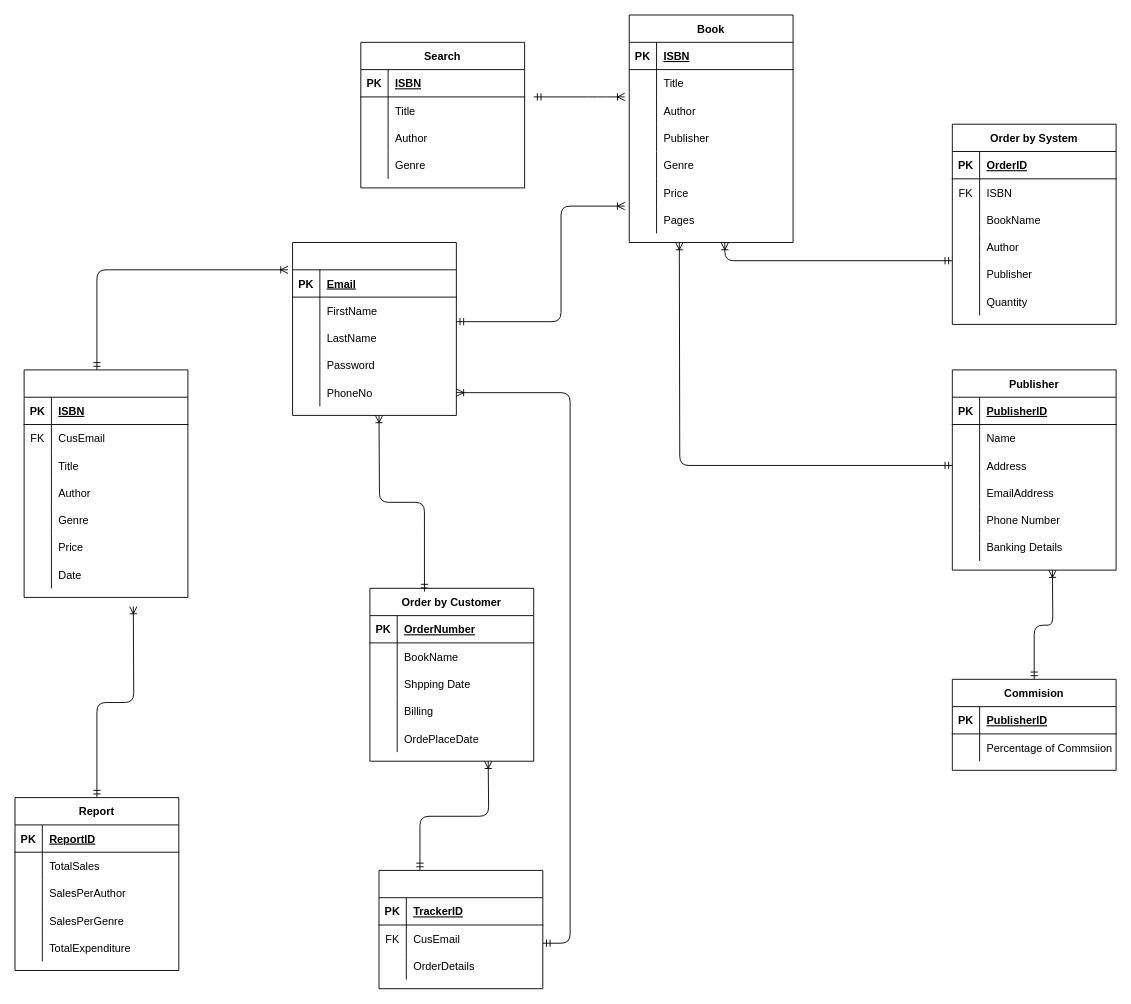
Some shapes in this 1131 by 1004 pixel diagram are drawn without their labels. The shapes that lost their labels are listed below. From the top down, each one's box as (x1, y1, x2, y2) in pixels, then its label:
(292, 242, 456, 415): Customer
(23, 369, 188, 597): Sales History
(378, 870, 543, 989): Track Order
